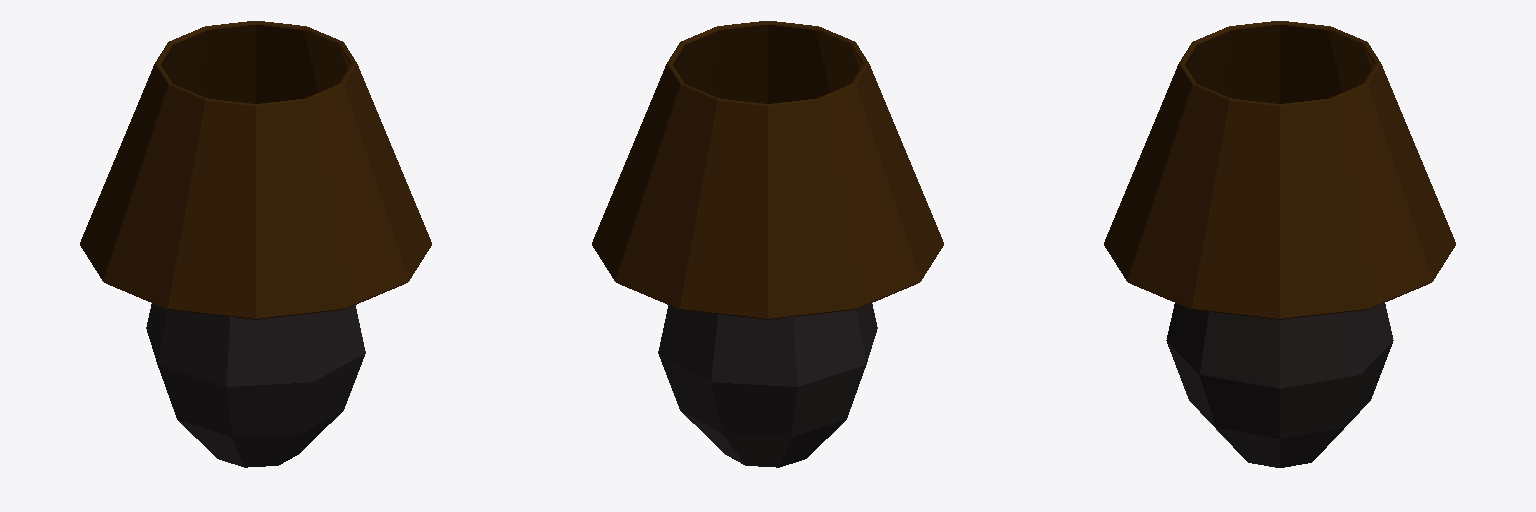
File: BedsideLamp1.obj
3 renders of one model, left to right at view 1: azimuth 30°, elevation 25°; view 2: azimuth 150°, elevation 25°; view 3: azimuth 270°, elevation 25°, orthographic.
Parts seen in each view (by area): view 1: BedsideLamp1_Cylinder; view 2: BedsideLamp1_Cylinder; view 3: BedsideLamp1_Cylinder.
Boxes of the visible parts, x1,y1,x2,y2 form: BedsideLamp1_Cylinder: [80, 21, 431, 467]; BedsideLamp1_Cylinder: [592, 21, 943, 467]; BedsideLamp1_Cylinder: [1104, 21, 1455, 467].
Bounding box in the file's own units: 0.3461 × 0.4185 × 0.3461.